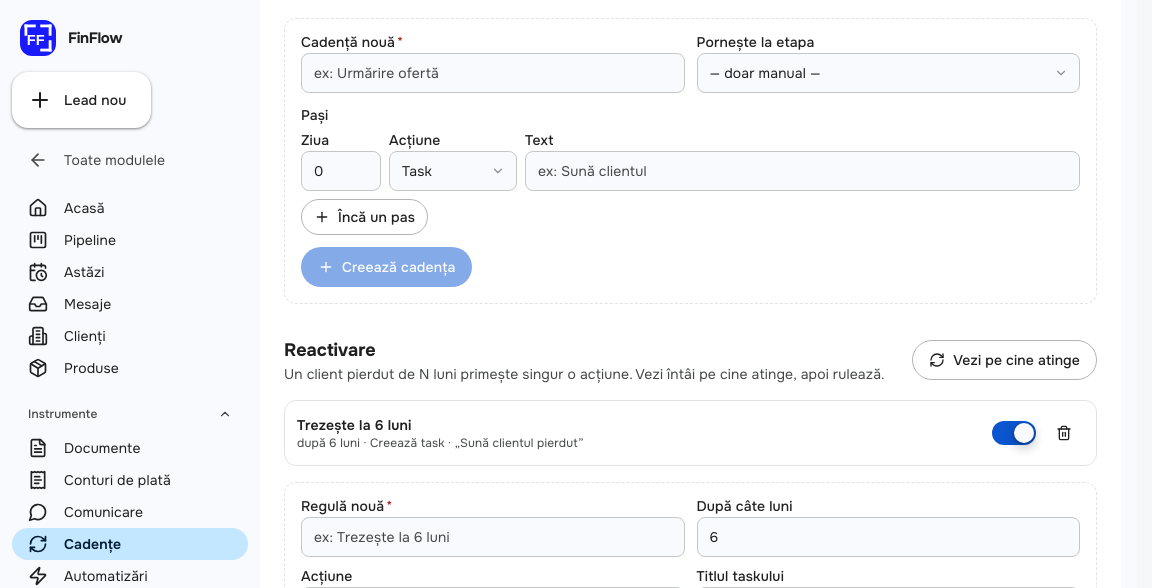
Test: Reactivare › [blocant] rularea chiar cheamă serverul, iar previzualizarea se golește după
The image size is (1152, 588).
(page scrolled)
Expected: the text "Trezește la 6 luni" is shown, x1=297 y1=416 x2=412 y2=434
Click the button "Vezi pe cine atinge" at (1005, 360), box x1=912 y1=340 x2=1097 y2=380
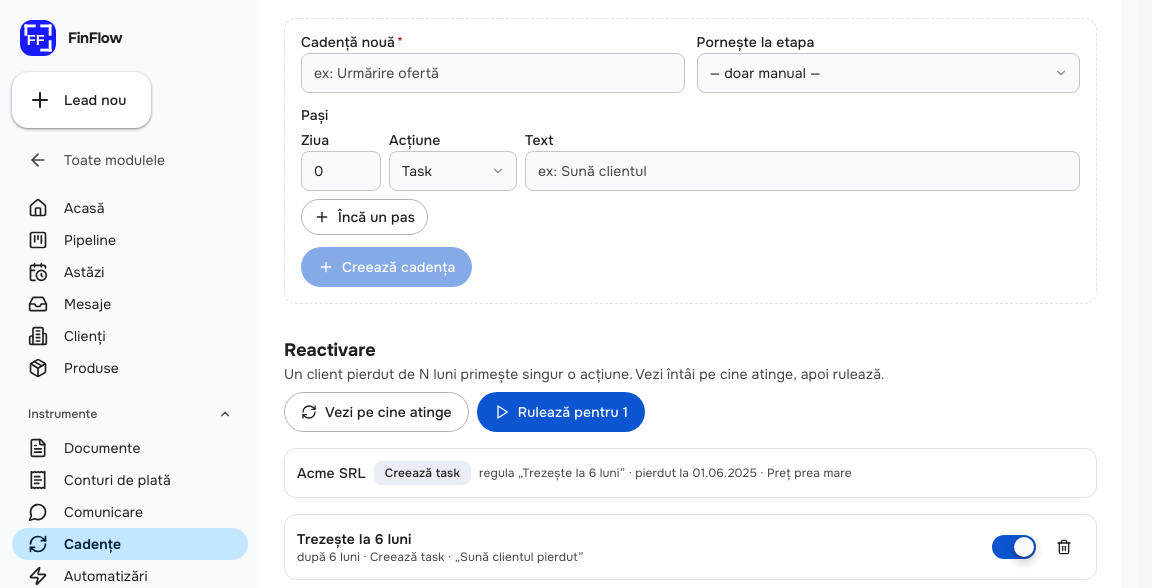
Click the button "Rulează pentru 1" at (561, 412), box x1=477 y1=392 x2=645 y2=432
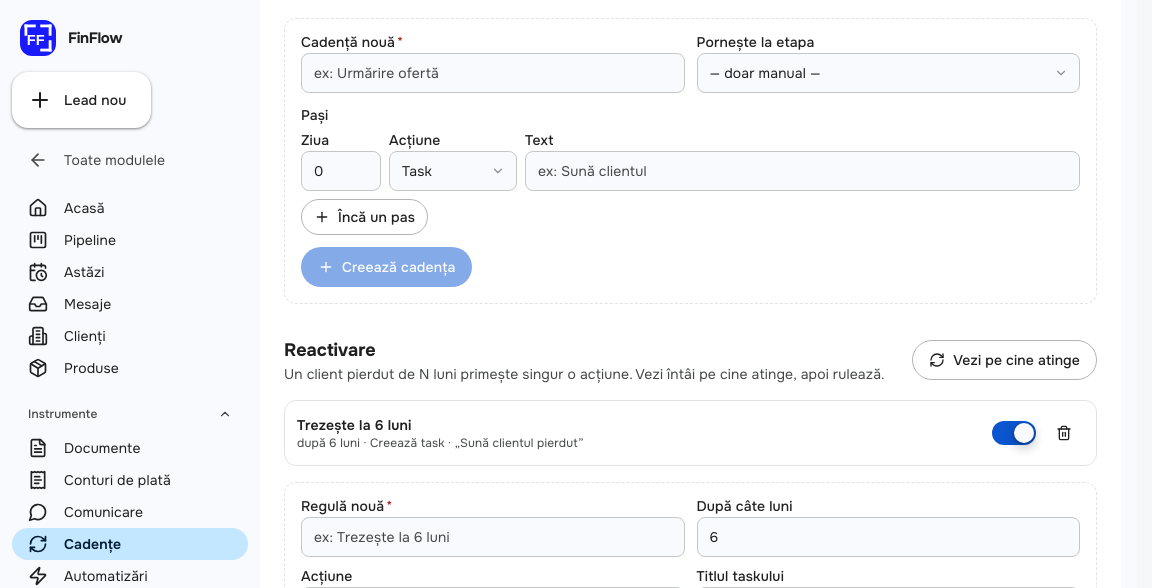
Now the button "Rulează pentru" is gone
